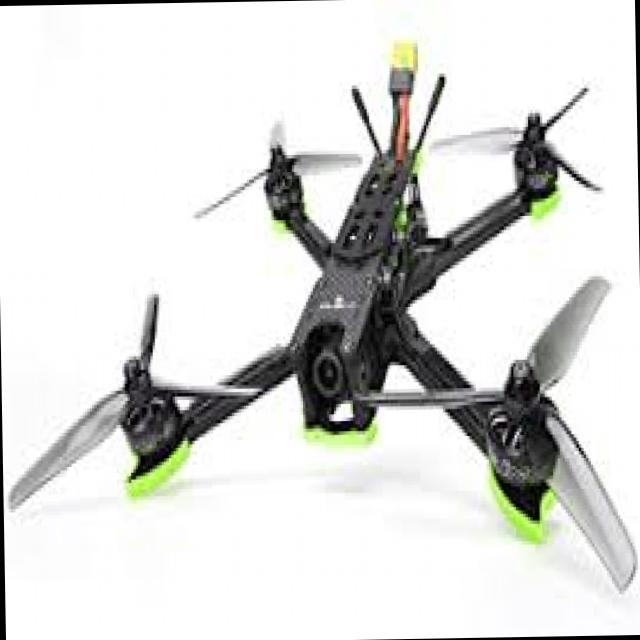drone: (46, 25, 640, 608)
